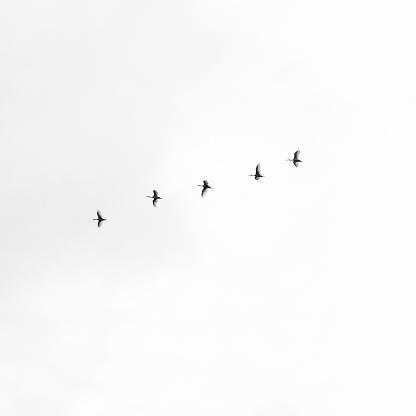bird: (145, 190, 163, 208), (196, 179, 213, 198), (286, 150, 303, 168), (91, 209, 107, 228), (248, 163, 265, 180)
